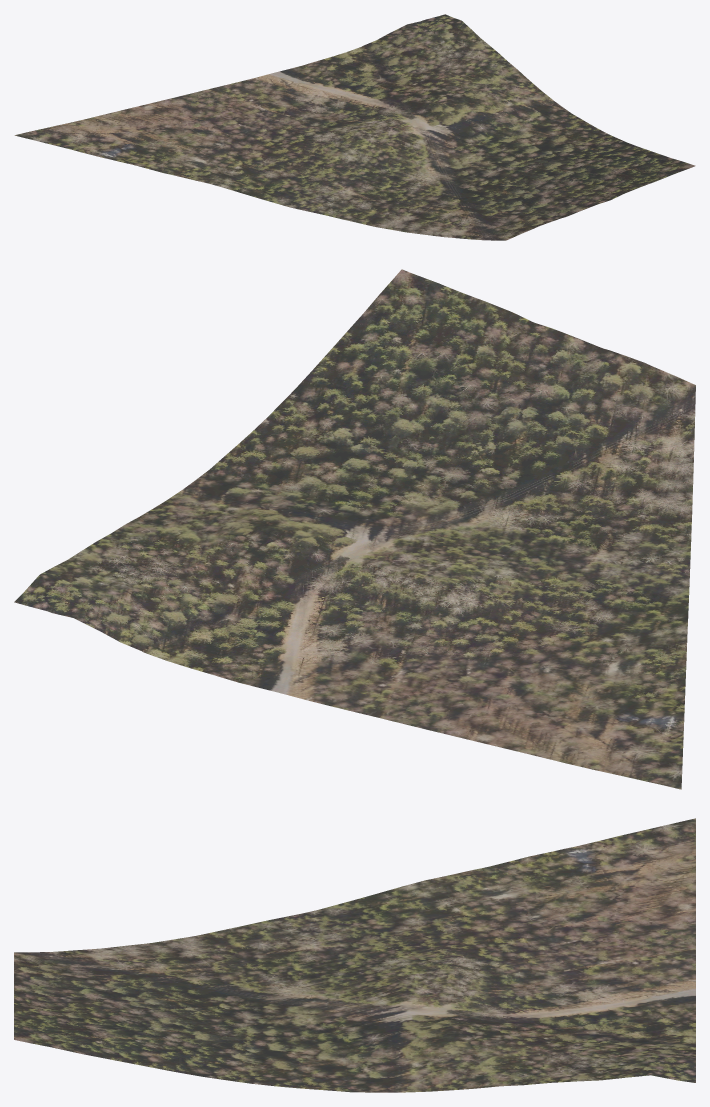
The model's file is CM_Terrain_24490663_6816312.fbx.
The picture shows the model from 3 angles, top to bottom: view 1: azimuth 30°, elevation 25°; view 2: azimuth 150°, elevation 25°; view 3: azimuth 270°, elevation 25°; orthographic projection. The views are drawn at different scales.
Visible parts, largest first — view 1: CM_Terrain_24490663_6816312_LOD0; view 2: CM_Terrain_24490663_6816312_LOD0; view 3: CM_Terrain_24490663_6816312_LOD0.
Boxes of the visible parts, x1=… form: CM_Terrain_24490663_6816312_LOD0: x1=14, y1=14, x2=695, y2=240; CM_Terrain_24490663_6816312_LOD0: x1=14, y1=269, x2=695, y2=789; CM_Terrain_24490663_6816312_LOD0: x1=14, y1=818, x2=695, y2=1092.
Size of what is drawn, in the model's own units: 204 by 22.43 by 205.
